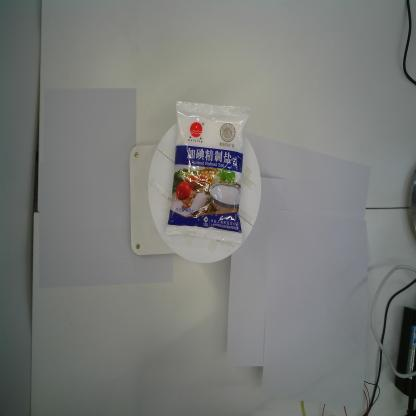Seasoner: (166, 100, 251, 242)
